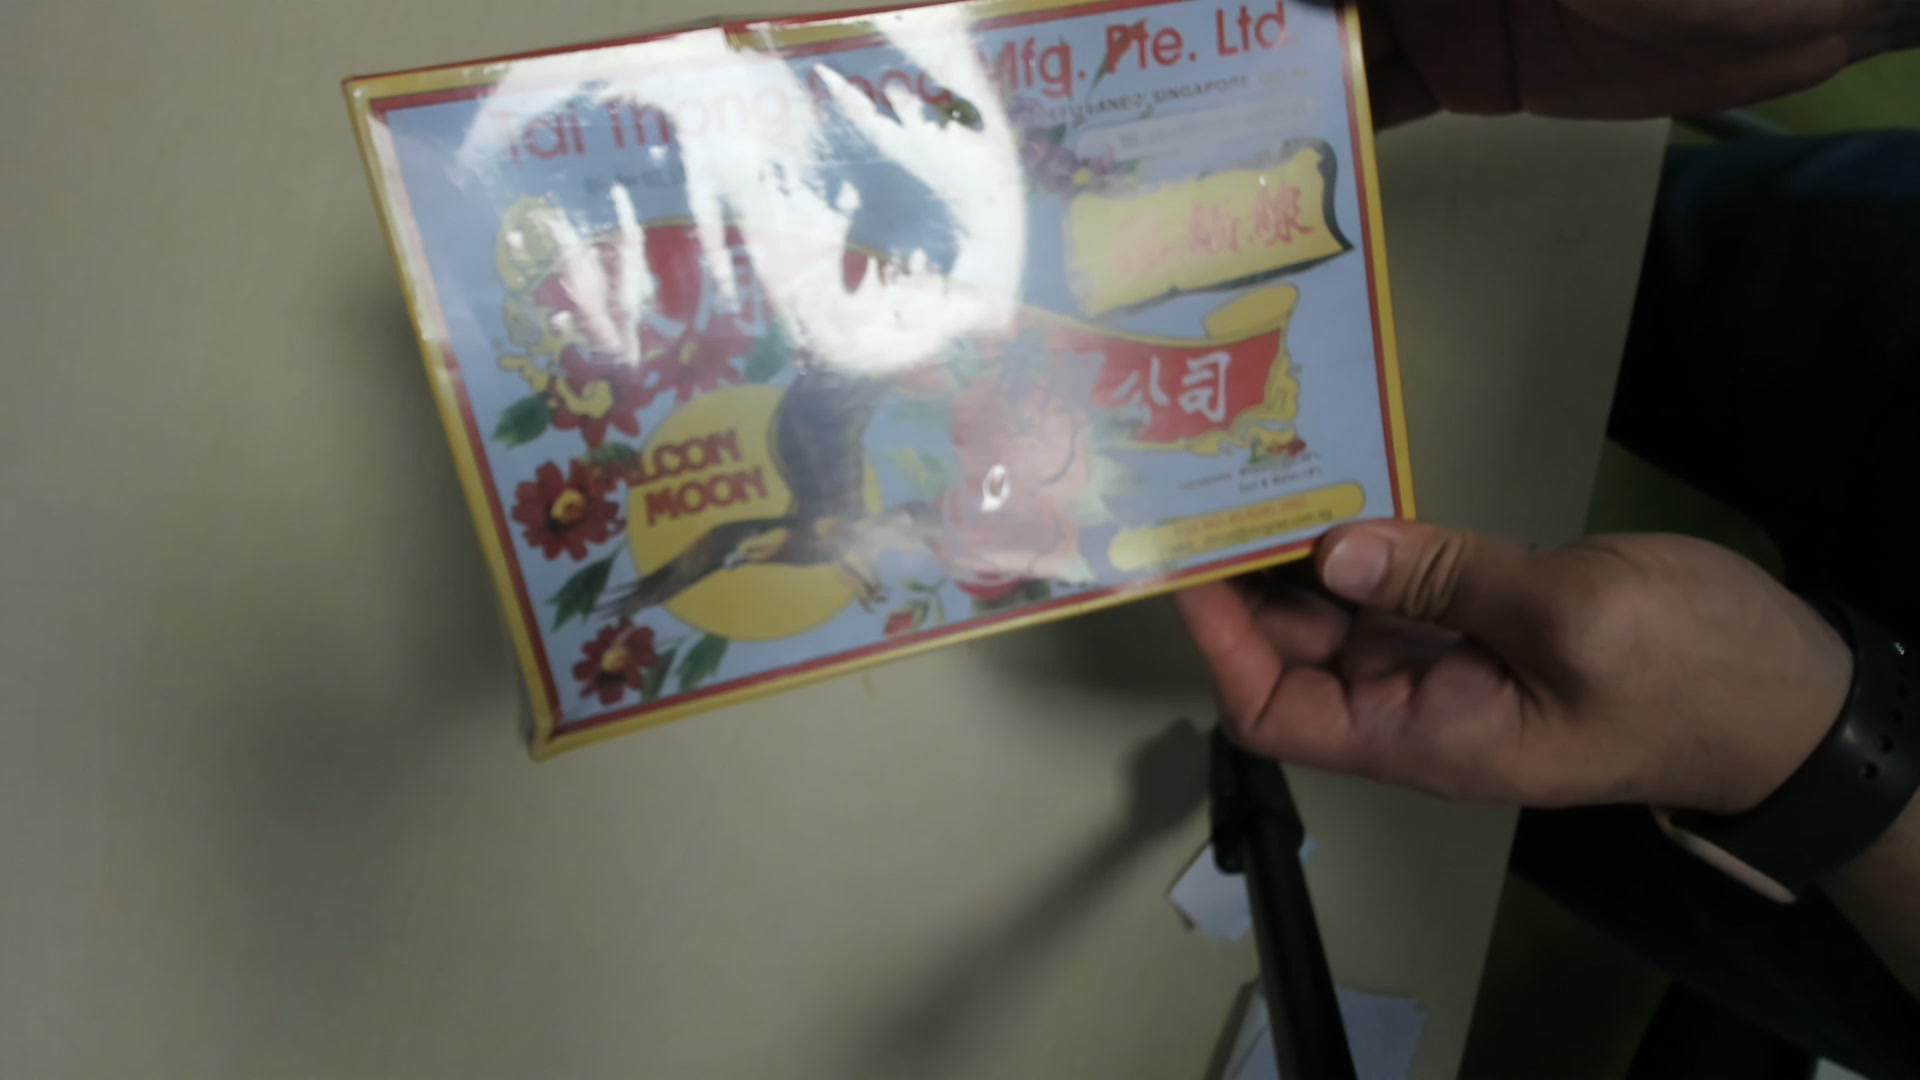BeeHoonVermicelli_0-99g_NonHalal_NonHealthy: (330, 7, 1423, 760)
